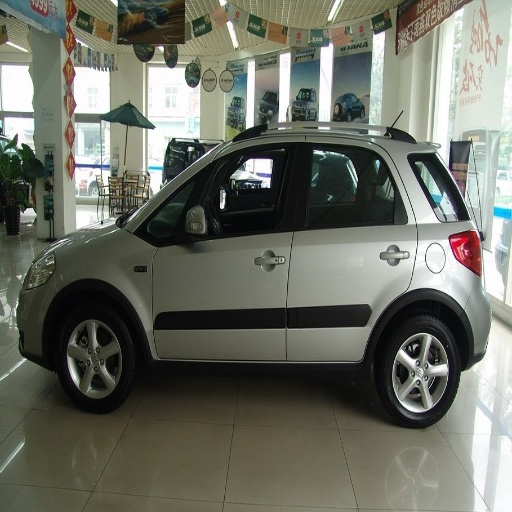back_left_door: (286, 138, 418, 362)
front_left_door: (148, 140, 302, 360)
